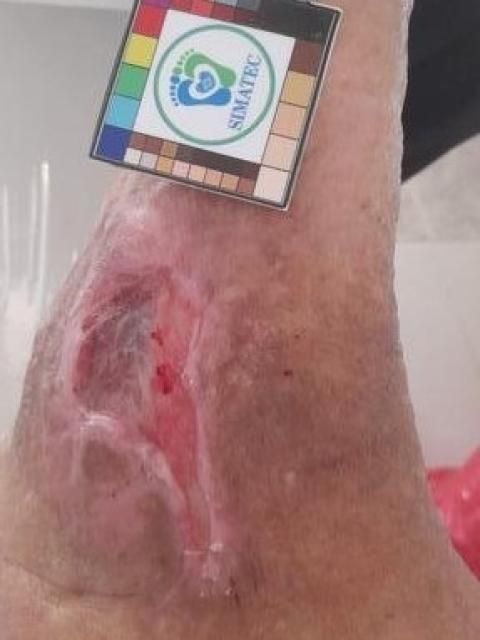wound: (72, 273, 214, 556)
